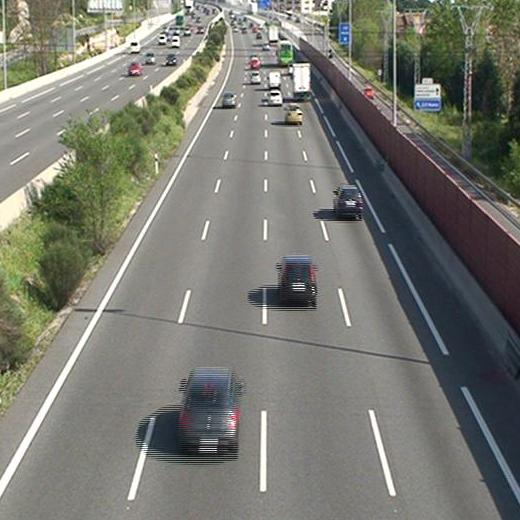bus: (276, 39, 292, 66)
car: (179, 369, 239, 450), (277, 258, 316, 301), (332, 187, 361, 216), (283, 103, 303, 122), (221, 91, 235, 107), (267, 91, 282, 105), (247, 71, 260, 83), (250, 57, 259, 70)
small-truck: (292, 63, 310, 100)
van: (267, 71, 280, 88)
